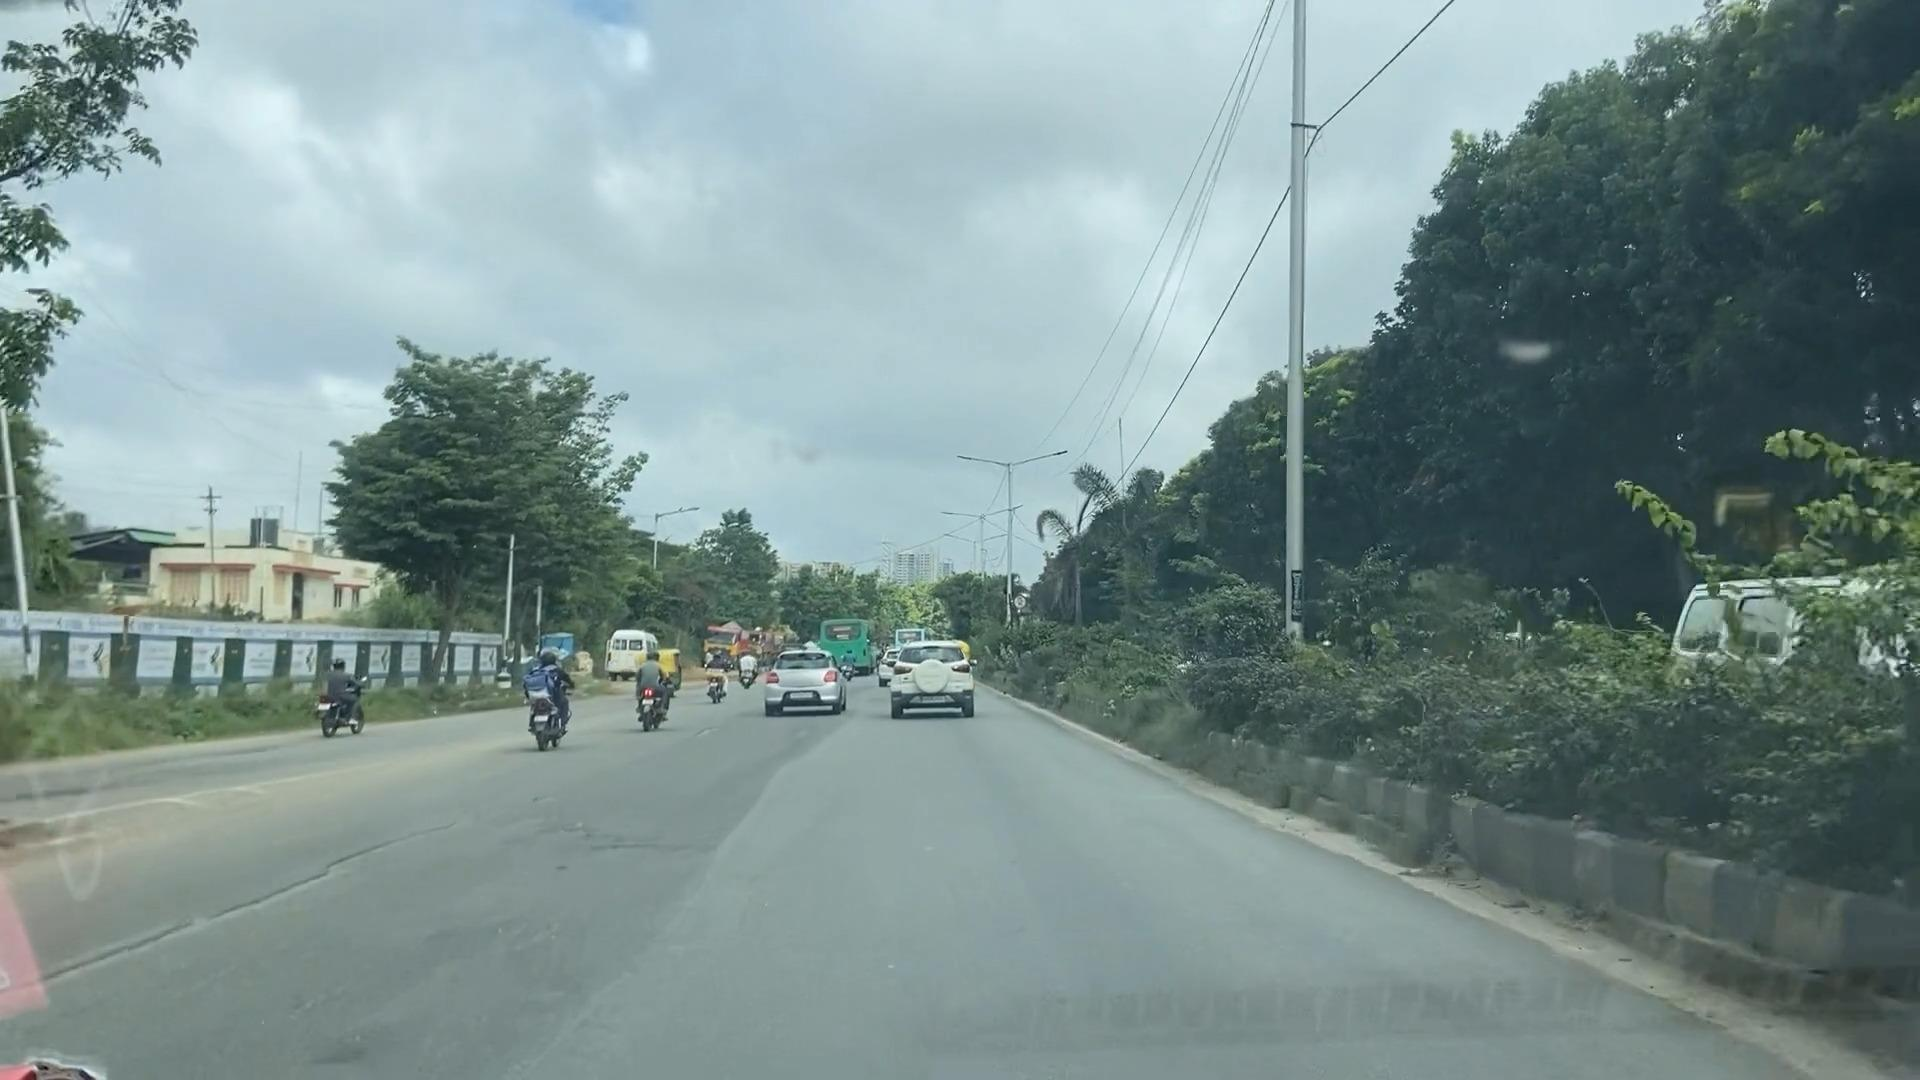LMV: (874, 626, 983, 723), (748, 634, 849, 727), (516, 636, 585, 751), (307, 655, 371, 751), (630, 634, 684, 740)
RoadDamages: (188, 836, 422, 939)
